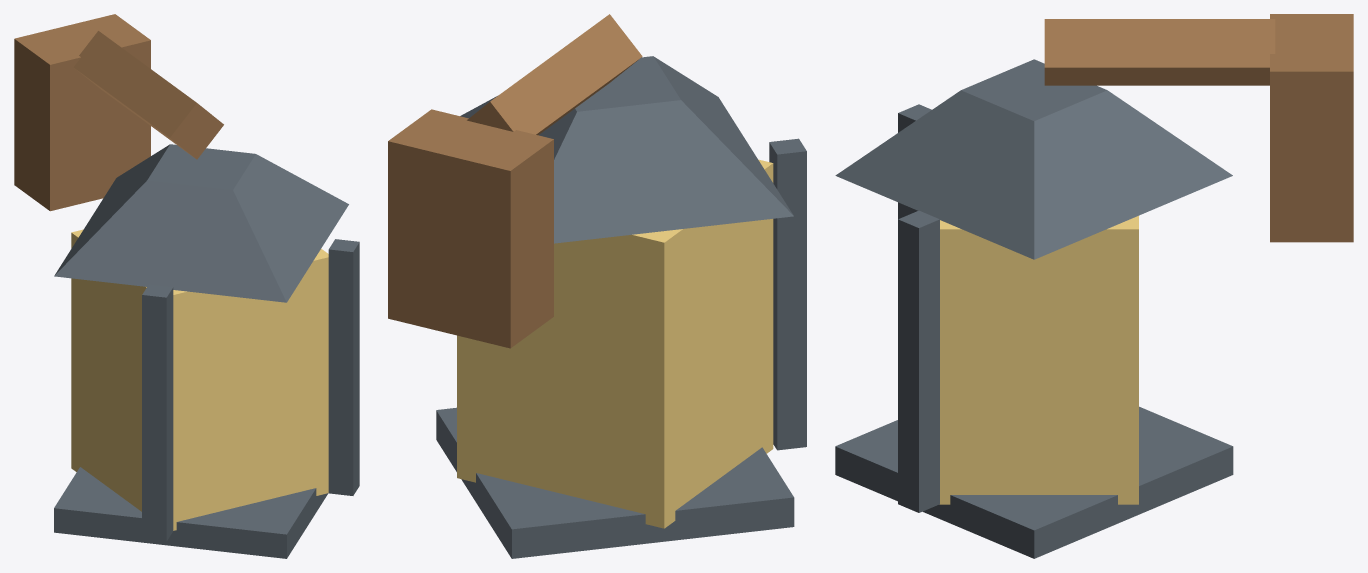
The model's file is Grassland_Fixture.fbx.
The picture shows the model from 3 angles, left to right: view 1: azimuth 30°, elevation 25°; view 2: azimuth 150°, elevation 25°; view 3: azimuth 270°, elevation 25°; orthographic projection. The views are drawn at different scales.
Visible parts, largest first — view 1: Grassland_Fixture; view 2: Grassland_Fixture; view 3: Grassland_Fixture.
Boxes of the visible parts, bbox=[...] form: Grassland_Fixture: bbox=[14, 14, 359, 558]; Grassland_Fixture: bbox=[388, 14, 806, 558]; Grassland_Fixture: bbox=[835, 14, 1353, 558].
Size of the model in its own units: 38 by 48 by 49.5.
